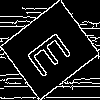E: (25, 25, 81, 79)
